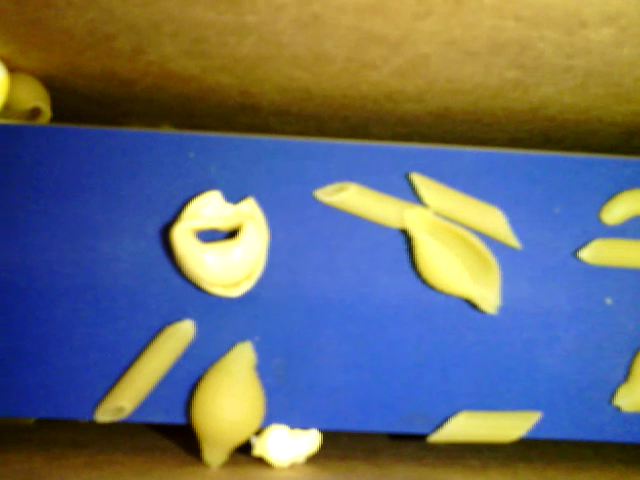penne: (94, 314, 195, 423), (410, 167, 520, 248), (313, 182, 424, 233), (423, 411, 541, 443), (572, 236, 638, 270)
shell: (403, 207, 502, 313), (190, 338, 264, 471), (1, 71, 60, 124)
tortellini: (165, 187, 270, 299)
